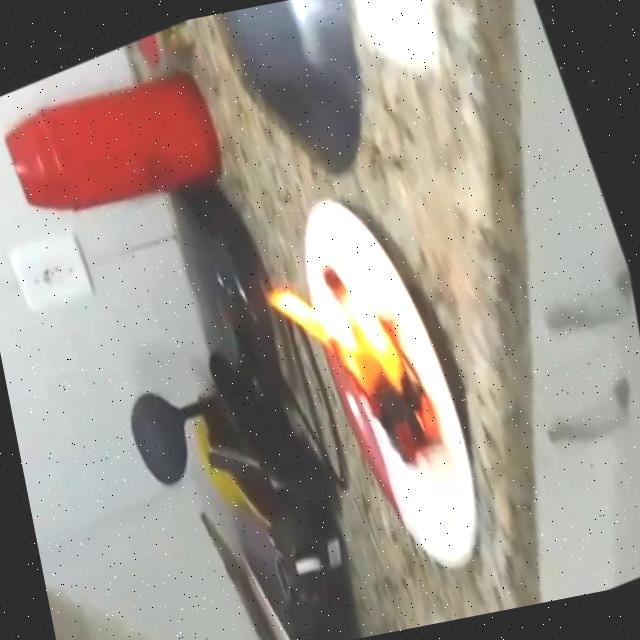fire: (251, 230, 465, 508)
